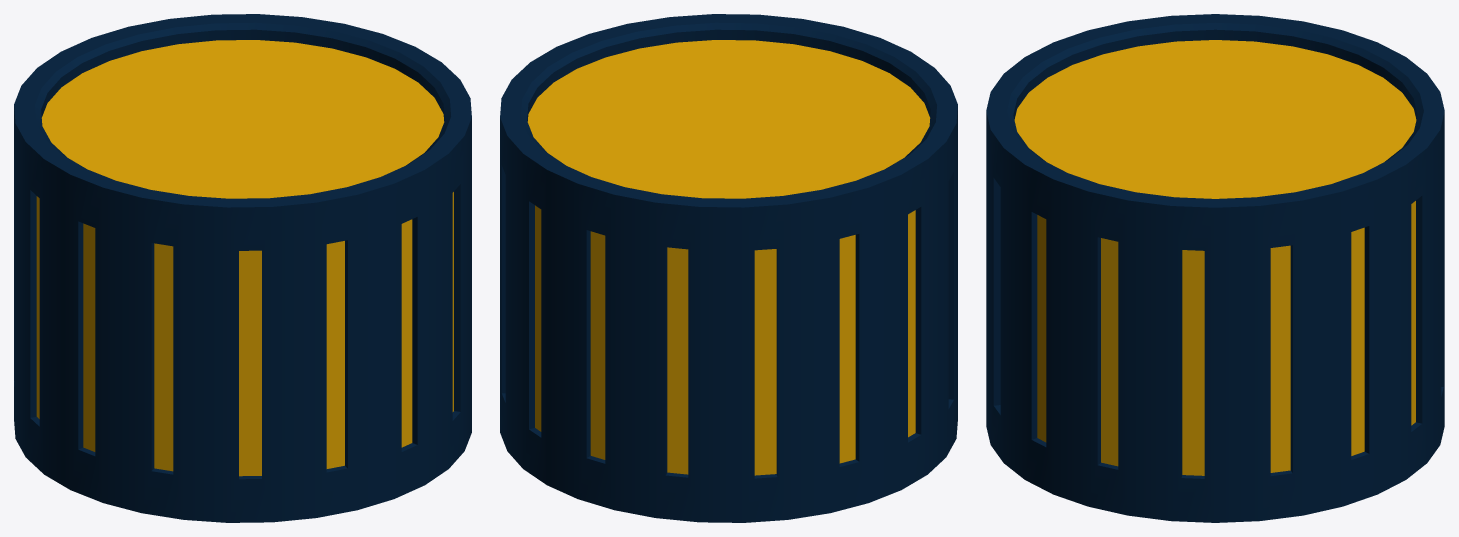
Rendered from key_a.fbx.
The picture shows the model from 3 angles, left to right: view 1: azimuth 30°, elevation 25°; view 2: azimuth 150°, elevation 25°; view 3: azimuth 270°, elevation 25°; orthographic projection.
Visible parts, largest first — view 1: key_a; view 2: key_a; view 3: key_a.
Boxes of the visible parts, <box> form: key_a: <box>14,14,471,522</box>; key_a: <box>500,14,957,522</box>; key_a: <box>986,14,1444,522</box>.
Bounding box in the file's own units: 6.59 × 5 × 6.59.
